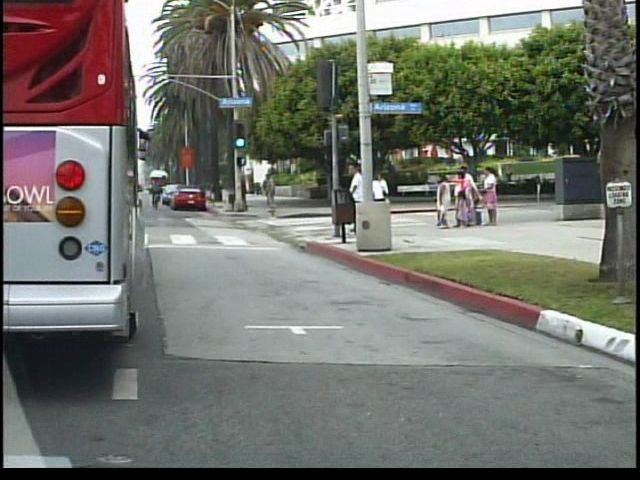person: (348, 161, 373, 239), (372, 168, 396, 230), (264, 169, 283, 211)
